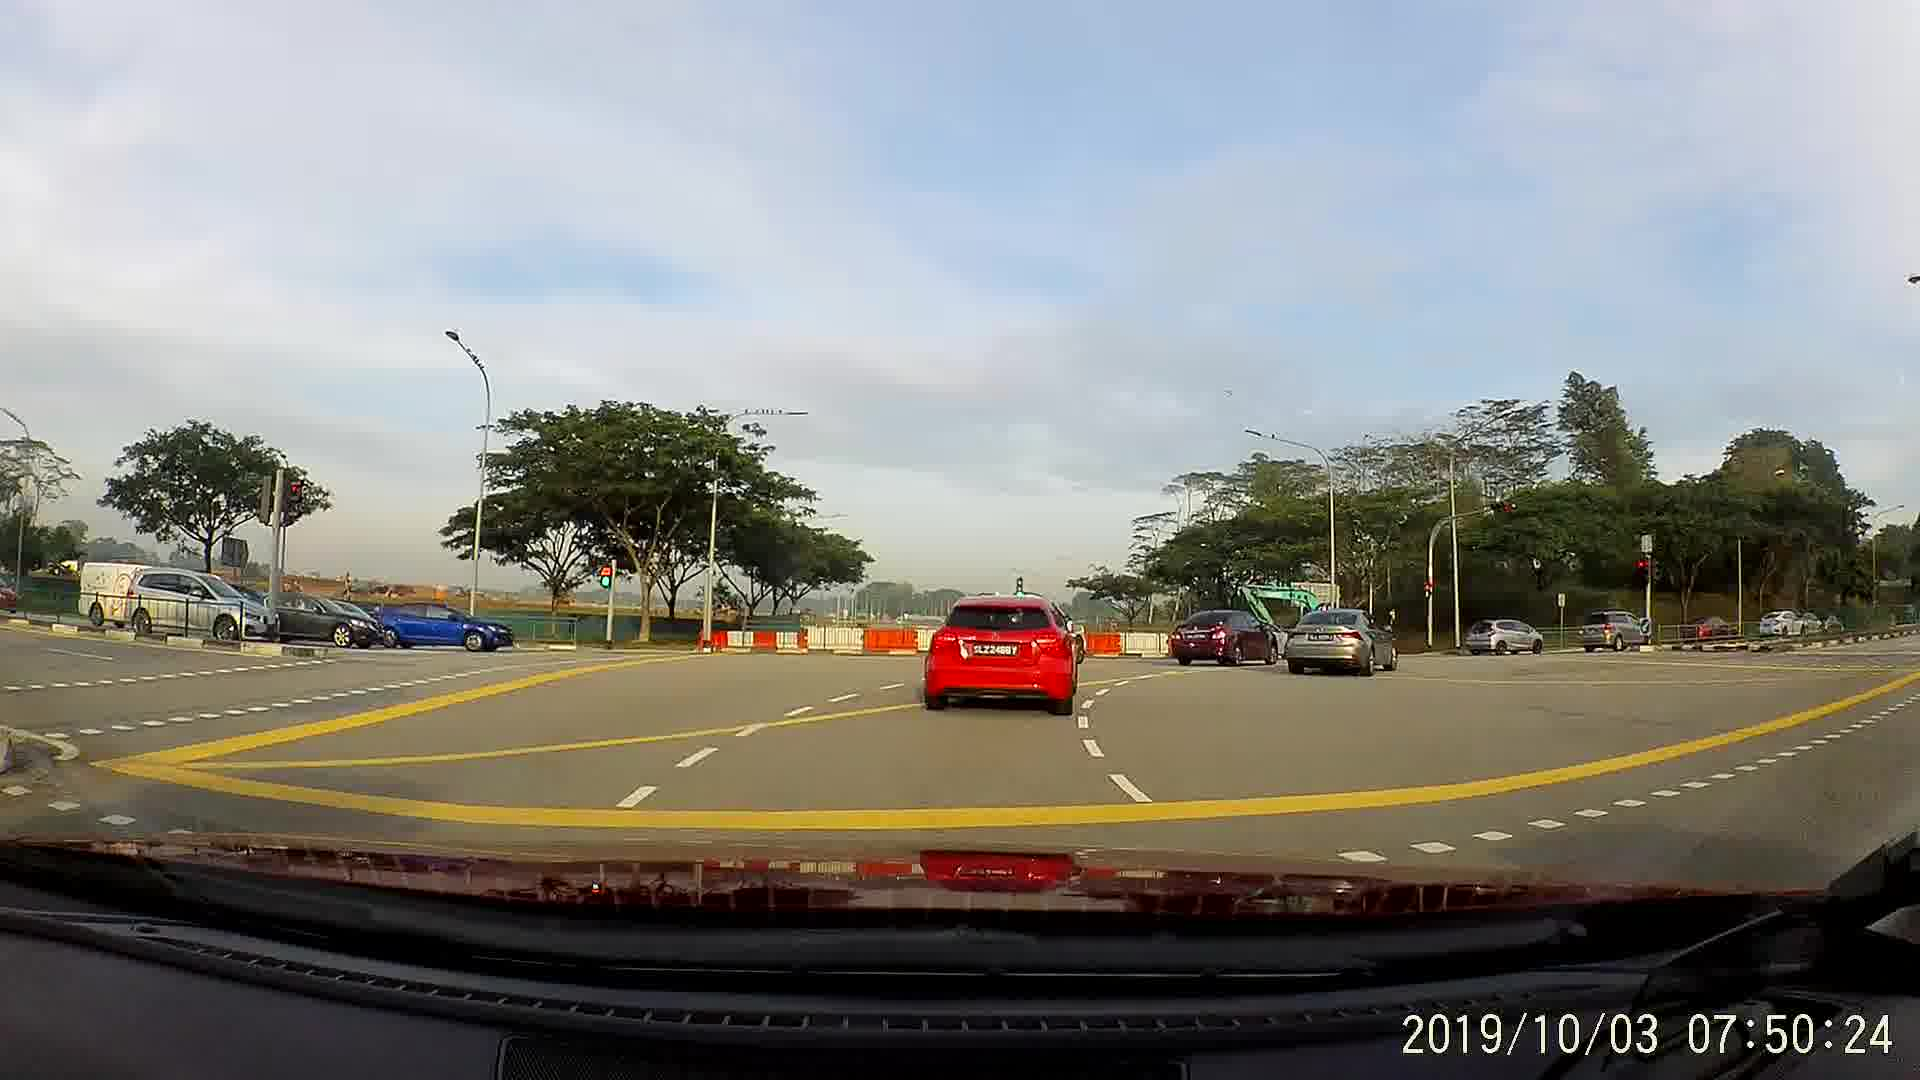car: (923, 584, 1087, 720), (125, 564, 284, 662), (65, 550, 196, 644), (352, 592, 524, 659), (247, 582, 381, 653), (1280, 600, 1402, 674), (1164, 603, 1276, 665), (1464, 609, 1547, 662), (1575, 613, 1652, 655), (1681, 609, 1745, 646), (1755, 608, 1808, 644), (1805, 611, 1844, 641)
